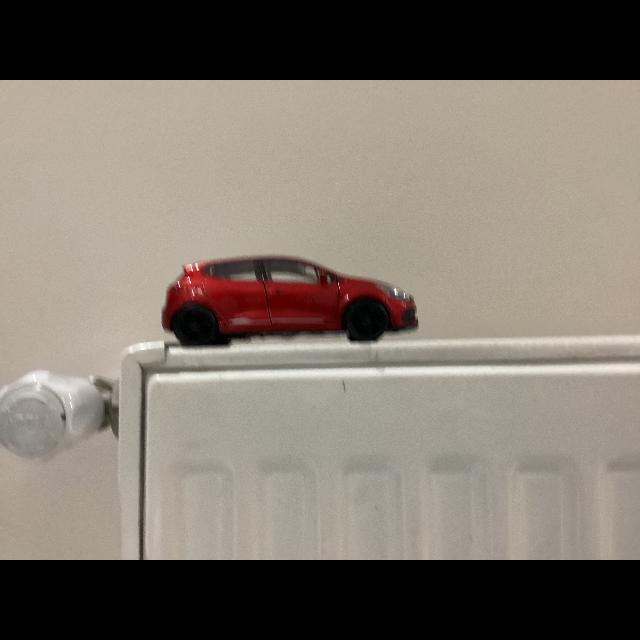Dogru_Jant: (352, 305, 382, 339), (181, 312, 209, 341)
